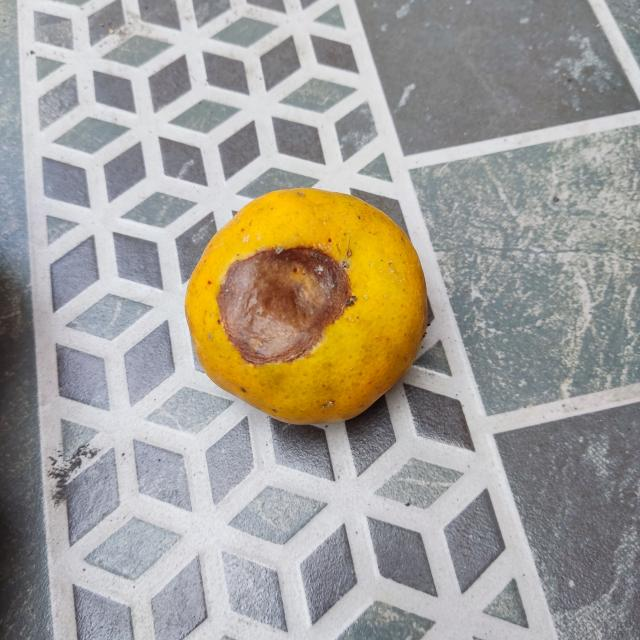orange: (184, 185, 432, 427)
